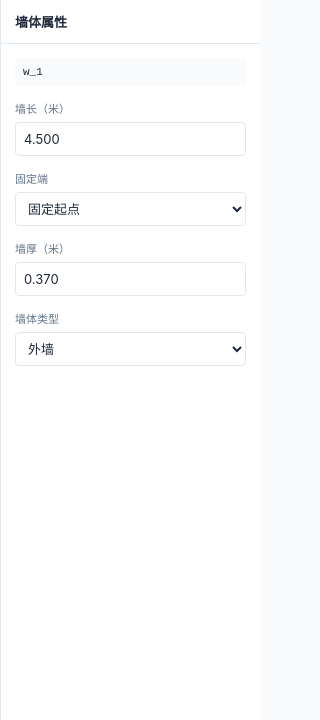
Test: EditablePropertyPanel › rejects non-positive thickness without changing the wall
The width and height of the screenshot is (320, 720).
Replace the text in the field labelled "墙厚（米）" with "0". click: (130, 279)
box: x1=15 y1=262 x2=246 y2=296
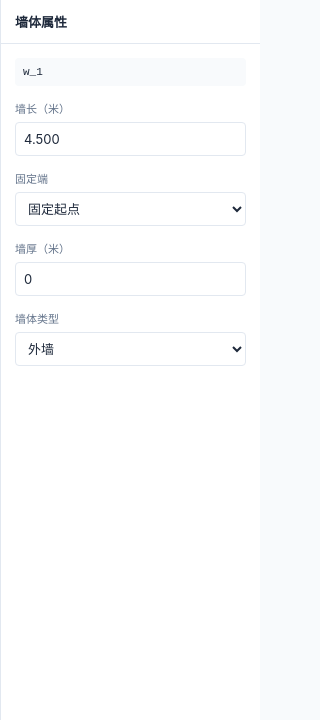
Leave the field labelled "墙厚（米）", box x1=15 y1=262 x2=246 y2=296
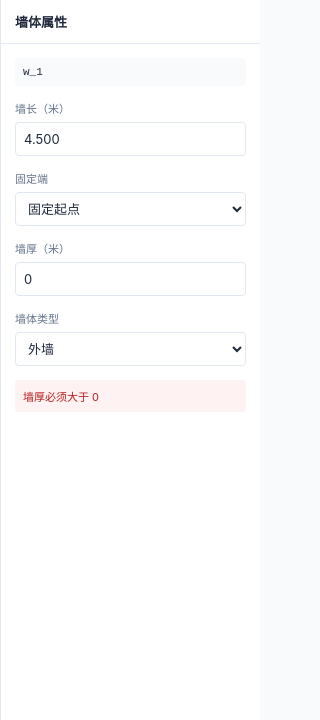
Check: the text "墙厚必须大于 0" is shown, box x1=15 y1=380 x2=246 y2=412
